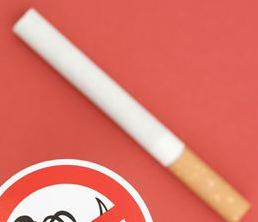smoke: (12, 6, 251, 220)
